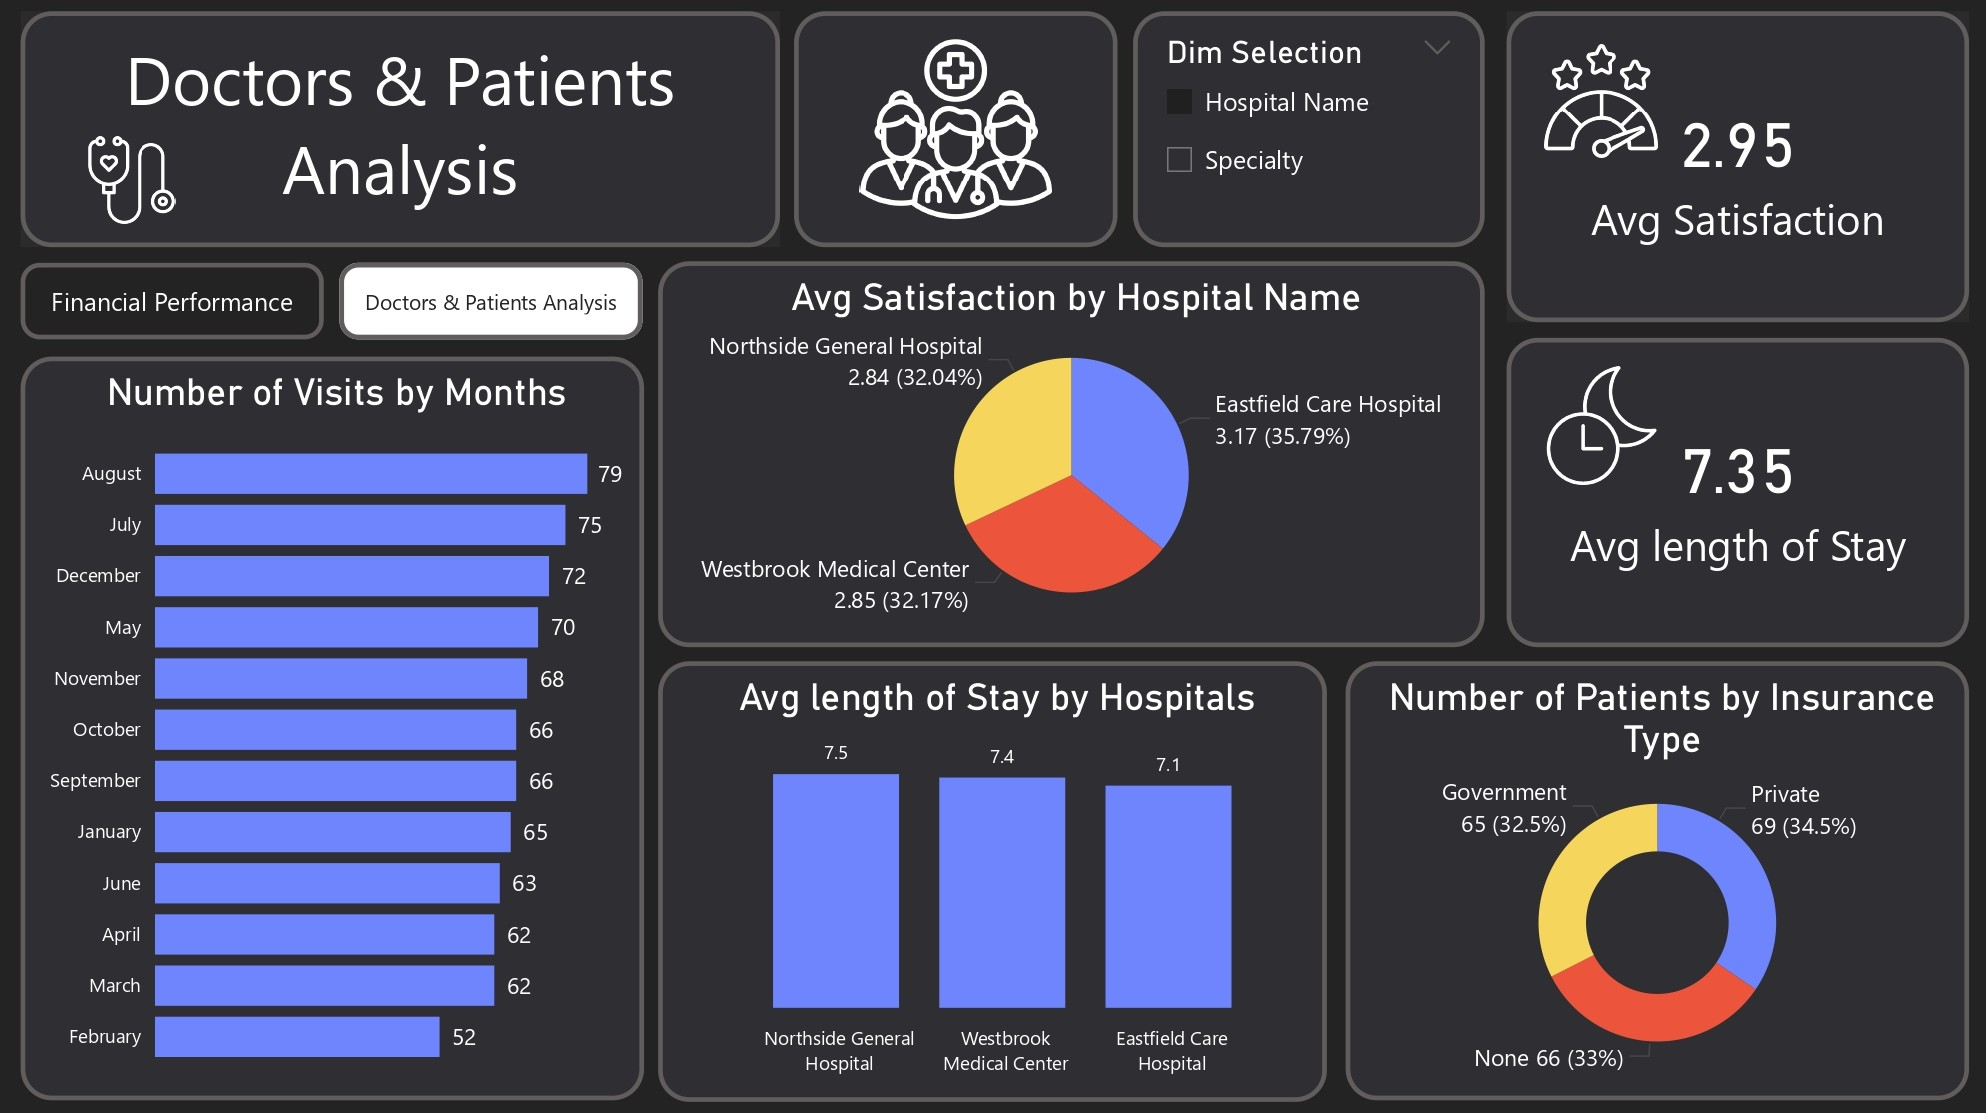

Layout of this report page (visuals, bound fields, positions):
{"tool":"powerbi","page":{"name":"Doctors & Patients Analysis","canvas":[1280,720],"ordinal":1},"visuals":[{"type":"textbox","box":[17.8,12.3,485.8,150.9],"z":0,"group":"g2"},{"type":"image","box":[513.2,12.3,207.2,150.9],"z":0},{"type":"card","fields":{"Values":["Measures Table.Avg Satisfaction"]},"box":[968.8,12.3,296.4,199],"z":0,"group":"g3"},{"type":"card","fields":{"Values":["Measures Table.Avg length of Stay"]},"box":[968.8,220.9,296.4,197.6],"z":0,"group":"g1"},{"type":"image","box":[979.8,28.2,98.8,83.6],"z":1000,"group":"g3"},{"type":"image","box":[45.2,87.8,87.8,65.9],"z":1000,"group":"g2"},{"type":"image","box":[979.8,233.8,98.8,86.5],"z":1000,"group":"g1"},{"type":"columnChart","title":"Avg length of Stay by Hospitals","fields":{"Category":["Hospitals.HospitalName"],"Y":["Measures Table.Avg length of Stay"]},"box":[426.1,427.8,427.8,281.9],"z":1000},{"type":"barChart","title":"Number of Visits by Months","fields":{"Category":["Date.Month Name"],"Y":["Measures Table.Number of Visits"]},"box":[17.8,233.3,399.3,476.2],"z":2000},{"type":"pageNavigator","box":[17.8,172.9,399.3,49.4],"z":3000},{"type":"donutChart","fields":{"Category":["Patients.InsuranceType"],"Y":["Measures Table.Number of Patients"]},"box":[865.9,428.1,399.3,281.3],"z":4000},{"type":"slicer","fields":{"Values":["Dim Selection.Dim Selection"]},"box":[730,12.3,225,150.9],"z":5000},{"type":"pieChart","fields":{"Category":["Hospitals.Hospital Name"],"Y":["Measures Table.Avg Satisfaction"]},"box":[426.1,172.4,528.9,247],"z":6000},{"type":"group","id":"g1","title":"Group 3","box":[968.8,220.9,296.4,197.6],"z":7000},{"type":"group","id":"g2","title":"Group 2","box":[17.8,12.3,485.8,150.9],"z":8000},{"type":"group","id":"g3","title":"Group 1","box":[968.8,12.3,296.4,199],"z":11000}]}

Visuals, with their boxes in screenshot pixels (x1, y1, x2, y2), scaled from the page's 1280x720 canvas onto the 1986x1113 screenshot:
textbox: 28, 19, 781, 252
image: 796, 19, 1118, 252
card - Measures Table.Avg Satisfaction: 1503, 19, 1963, 327
card - Measures Table.Avg length of Stay: 1503, 341, 1963, 647
image: 1520, 44, 1674, 173
image: 70, 136, 206, 238
image: 1520, 361, 1674, 495
"Avg length of Stay by Hospitals" columnChart: 661, 661, 1325, 1097
"Number of Visits by Months" barChart: 28, 361, 647, 1097
pageNavigator: 28, 267, 647, 344
donutChart - Patients.InsuranceType x Measures Table.Number of Patients: 1343, 662, 1963, 1097
slicer - Dim Selection.Dim Selection: 1133, 19, 1482, 252
pieChart - Hospitals.Hospital Name x Measures Table.Avg Satisfaction: 661, 267, 1482, 648
"Group 3" group: 1503, 341, 1963, 647
"Group 2" group: 28, 19, 781, 252
"Group 1" group: 1503, 19, 1963, 327
